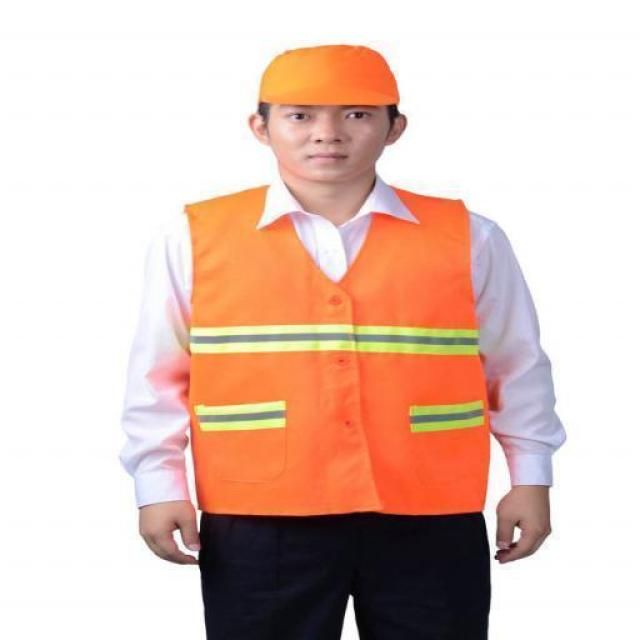face_nomask: (276, 103, 376, 173)
hand_noglove: (480, 479, 564, 570), (127, 495, 208, 576)
head_nohelmet: (242, 40, 413, 114)
person: (117, 42, 568, 640)
vest: (175, 170, 503, 524)
